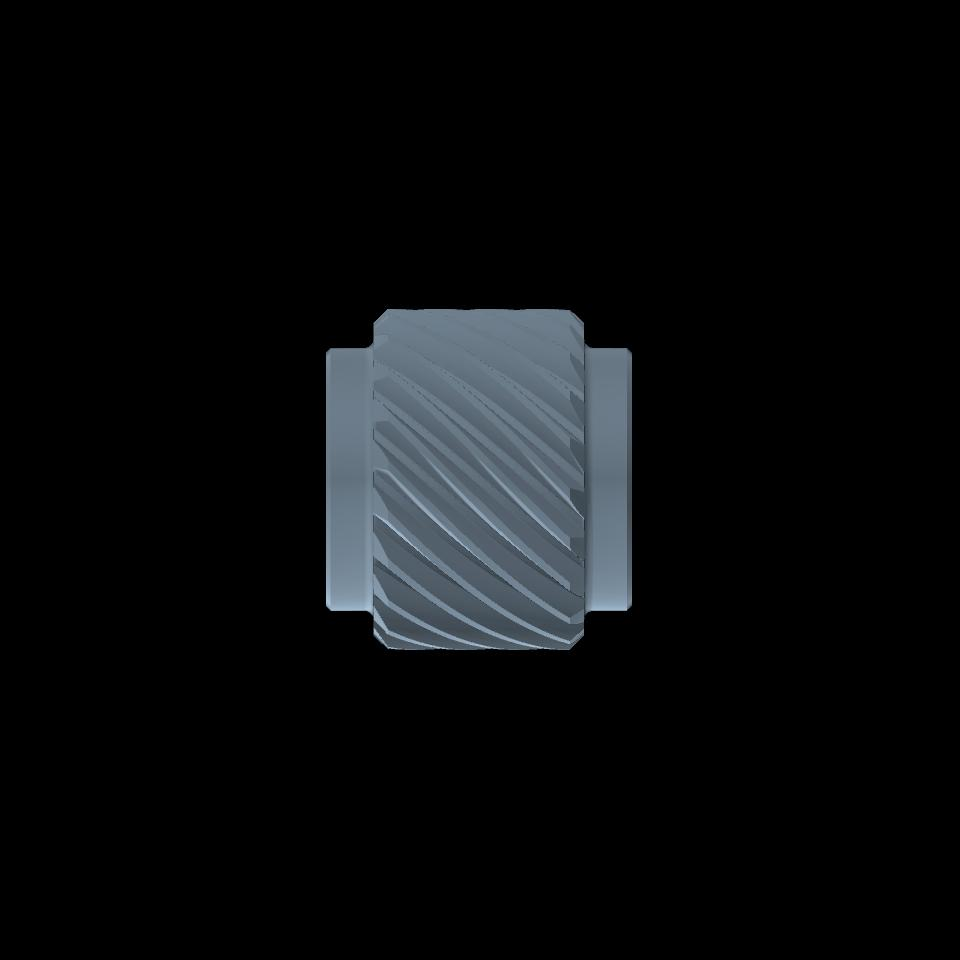Helical: (385, 308, 570, 648)
